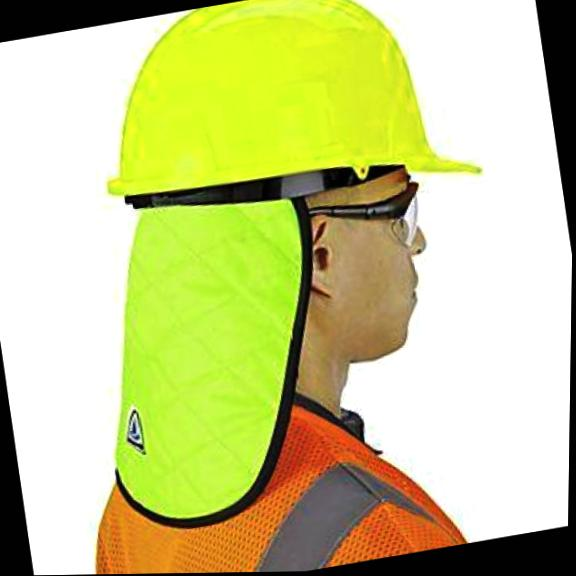safety_vest: (62, 361, 478, 575)
